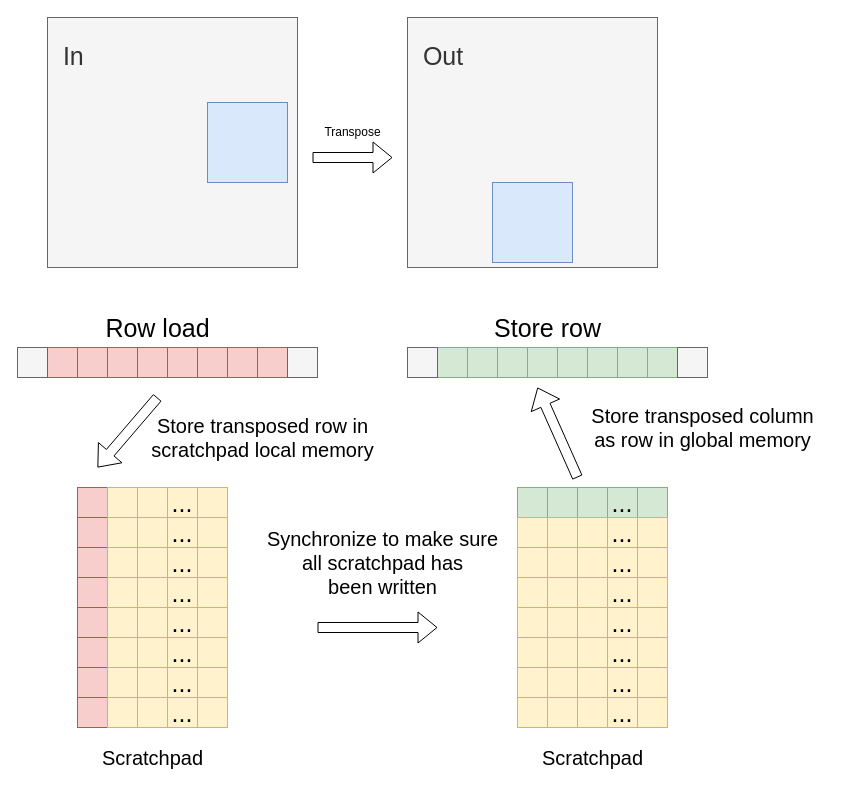
Some shapes in this 845 by 795 pixel diagram are drawn without their labels. The centre of each missing label's shape, as x and y in pixels:
<--Row 1--> <--Row 2--> ... <--Row n-->: point 247,142
<--Row n--> ... <--Row 2--> <--Row 1-->: point 532,222
